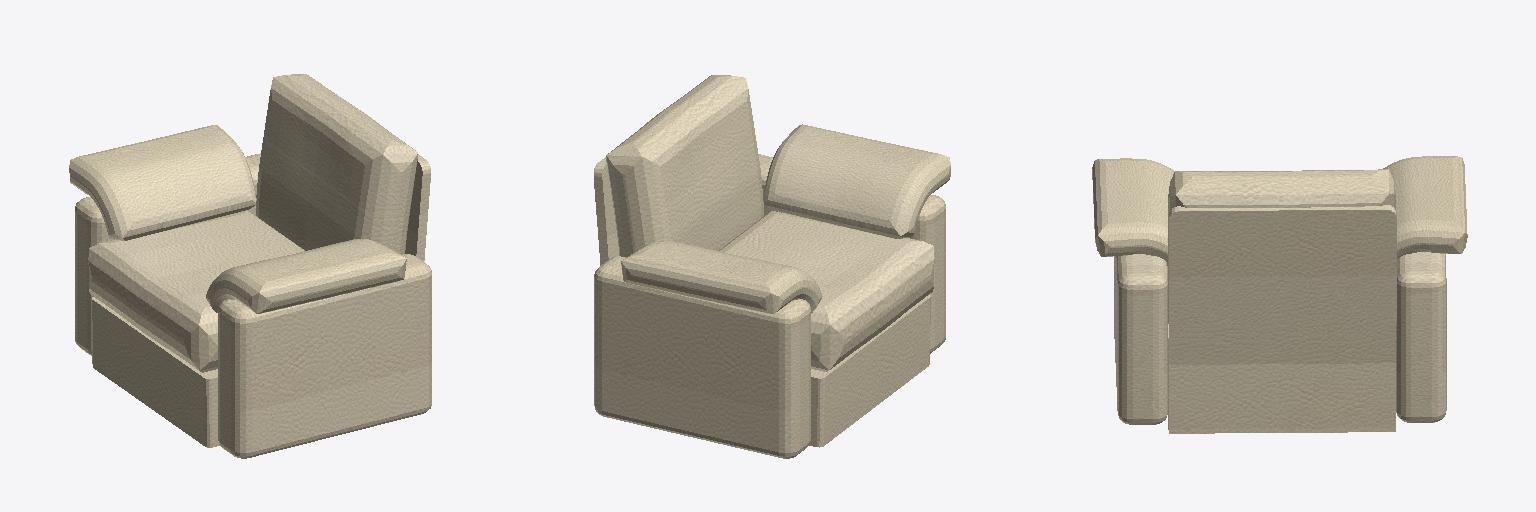
The picture shows the model from 3 angles: view 1: azimuth 30°, elevation 25°; view 2: azimuth 150°, elevation 25°; view 3: azimuth 270°, elevation 25°; orthographic projection.
Visible parts, largest first — view 1: Malla de; view 2: Malla de; view 3: Malla de.
Part boxes in pixels (bbox=[...]): Malla de: bbox=[69, 74, 431, 458]; Malla de: bbox=[594, 75, 950, 458]; Malla de: bbox=[1092, 156, 1467, 433].
Bounding box in the file's own units: 3.3 × 3.27 × 4.46.
Materials: 5 (1 with a texture image).